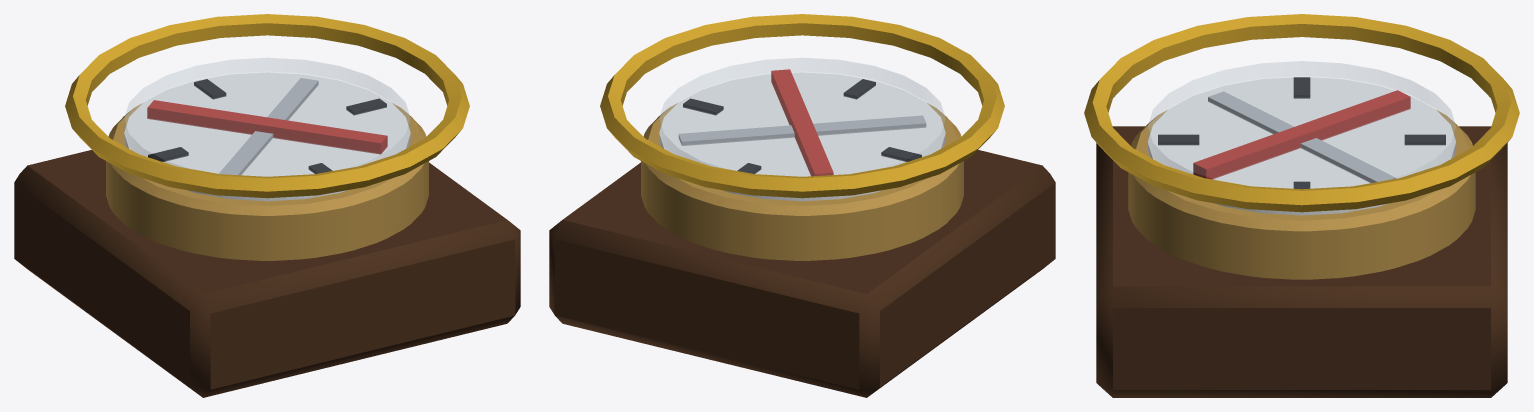
The model's file is instrument_nav_compass.glb.
3 renders of one model, left to right at view 1: azimuth 30°, elevation 25°; view 2: azimuth 150°, elevation 25°; view 3: azimuth 270°, elevation 25°, orthographic. The views are drawn at different scales.
Visible parts, largest first — view 1: instrument_nav_compass; view 2: instrument_nav_compass; view 3: instrument_nav_compass.
Boxes of the visible parts, bbox=[...] form: instrument_nav_compass: bbox=[14, 14, 520, 397]; instrument_nav_compass: bbox=[549, 14, 1055, 397]; instrument_nav_compass: bbox=[1084, 14, 1519, 397].
Bounding box in the file's own units: 0.212 × 0.1157 × 0.212.
